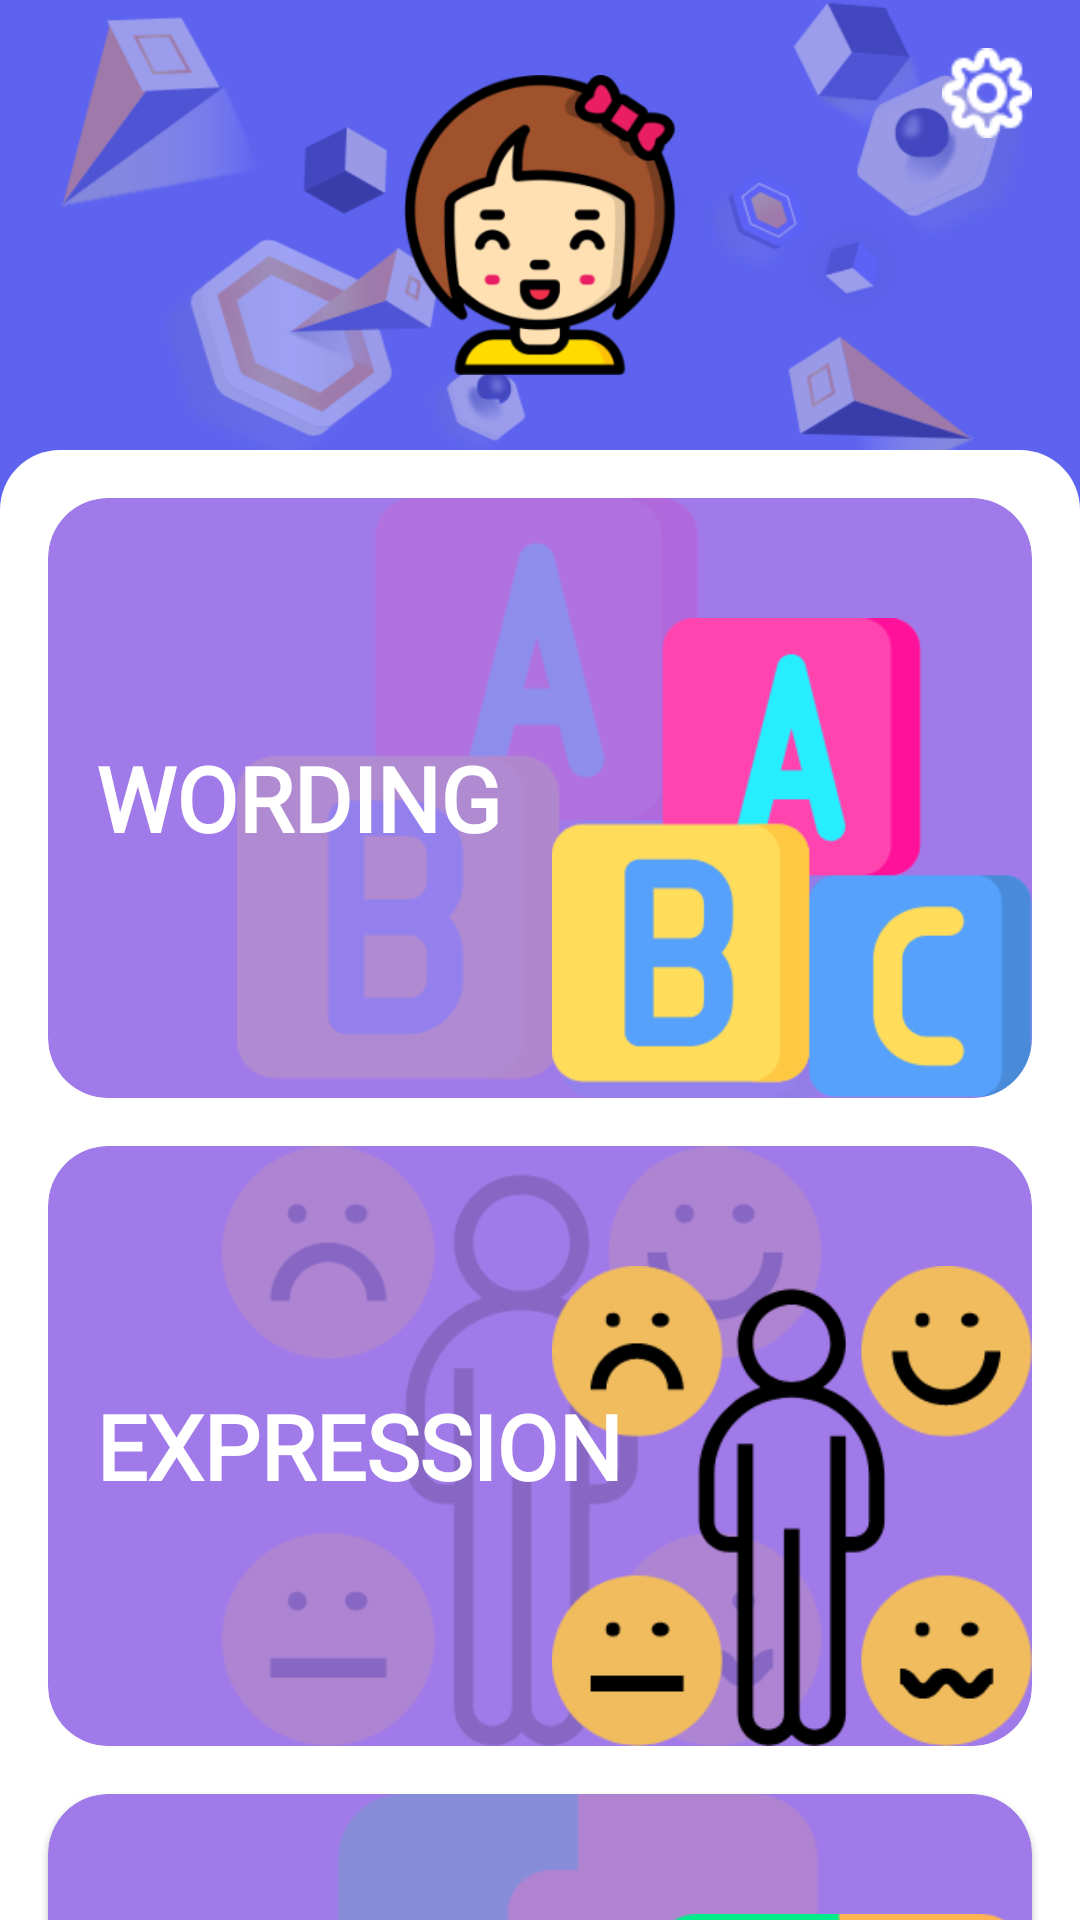

Icon click points for this 1080px x 1920px phone screenshot, format point (x, y):
girl: point (533, 225)
settings: point (987, 93)
